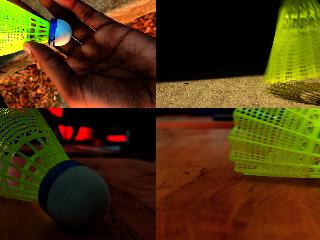shuttlecock: (0, 108, 111, 231), (228, 108, 319, 189), (261, 0, 319, 83), (0, 0, 73, 57)
